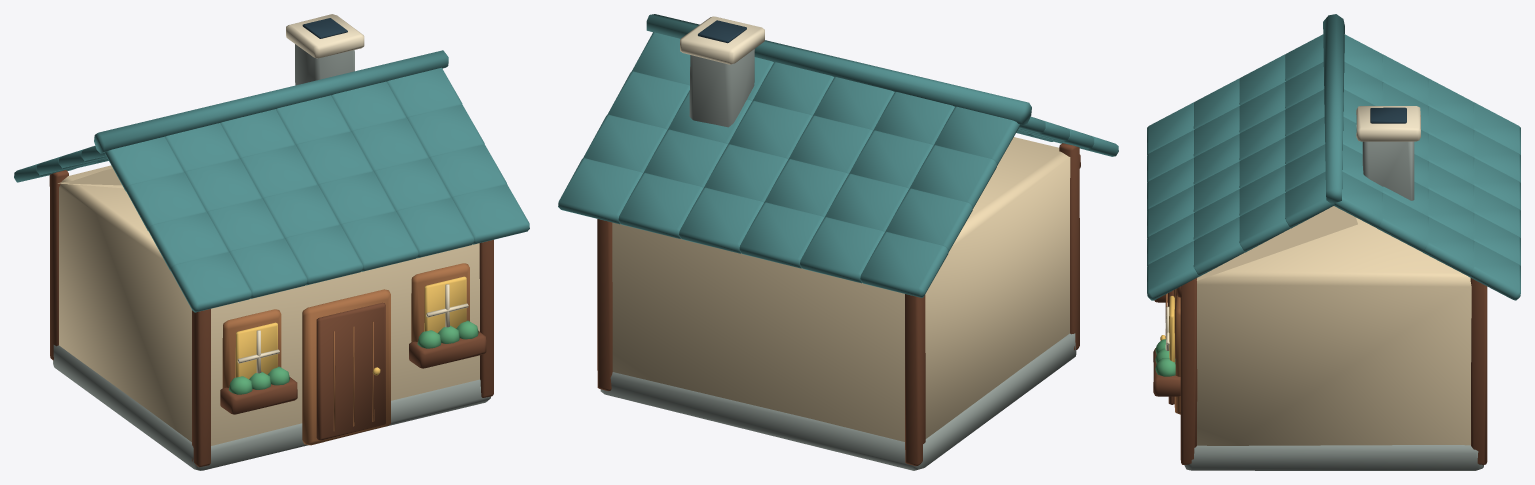
The model's file is guild_house.glb.
3 views of the same model, side by side, from view 1: azimuth 30°, elevation 25°; view 2: azimuth 150°, elevation 25°; view 3: azimuth 270°, elevation 25° (orthographic). The views are drawn at different scales.
Visible parts, largest first — view 1: guild_house_mesh; view 2: guild_house_mesh; view 3: guild_house_mesh.
Boxes of the visible parts, x1,y1,x2,y2 form: guild_house_mesh: (14, 14, 529, 470); guild_house_mesh: (558, 14, 1118, 470); guild_house_mesh: (1147, 14, 1520, 470).
Bounding box in the file's own units: 4.1 × 3.62 × 3.76.
